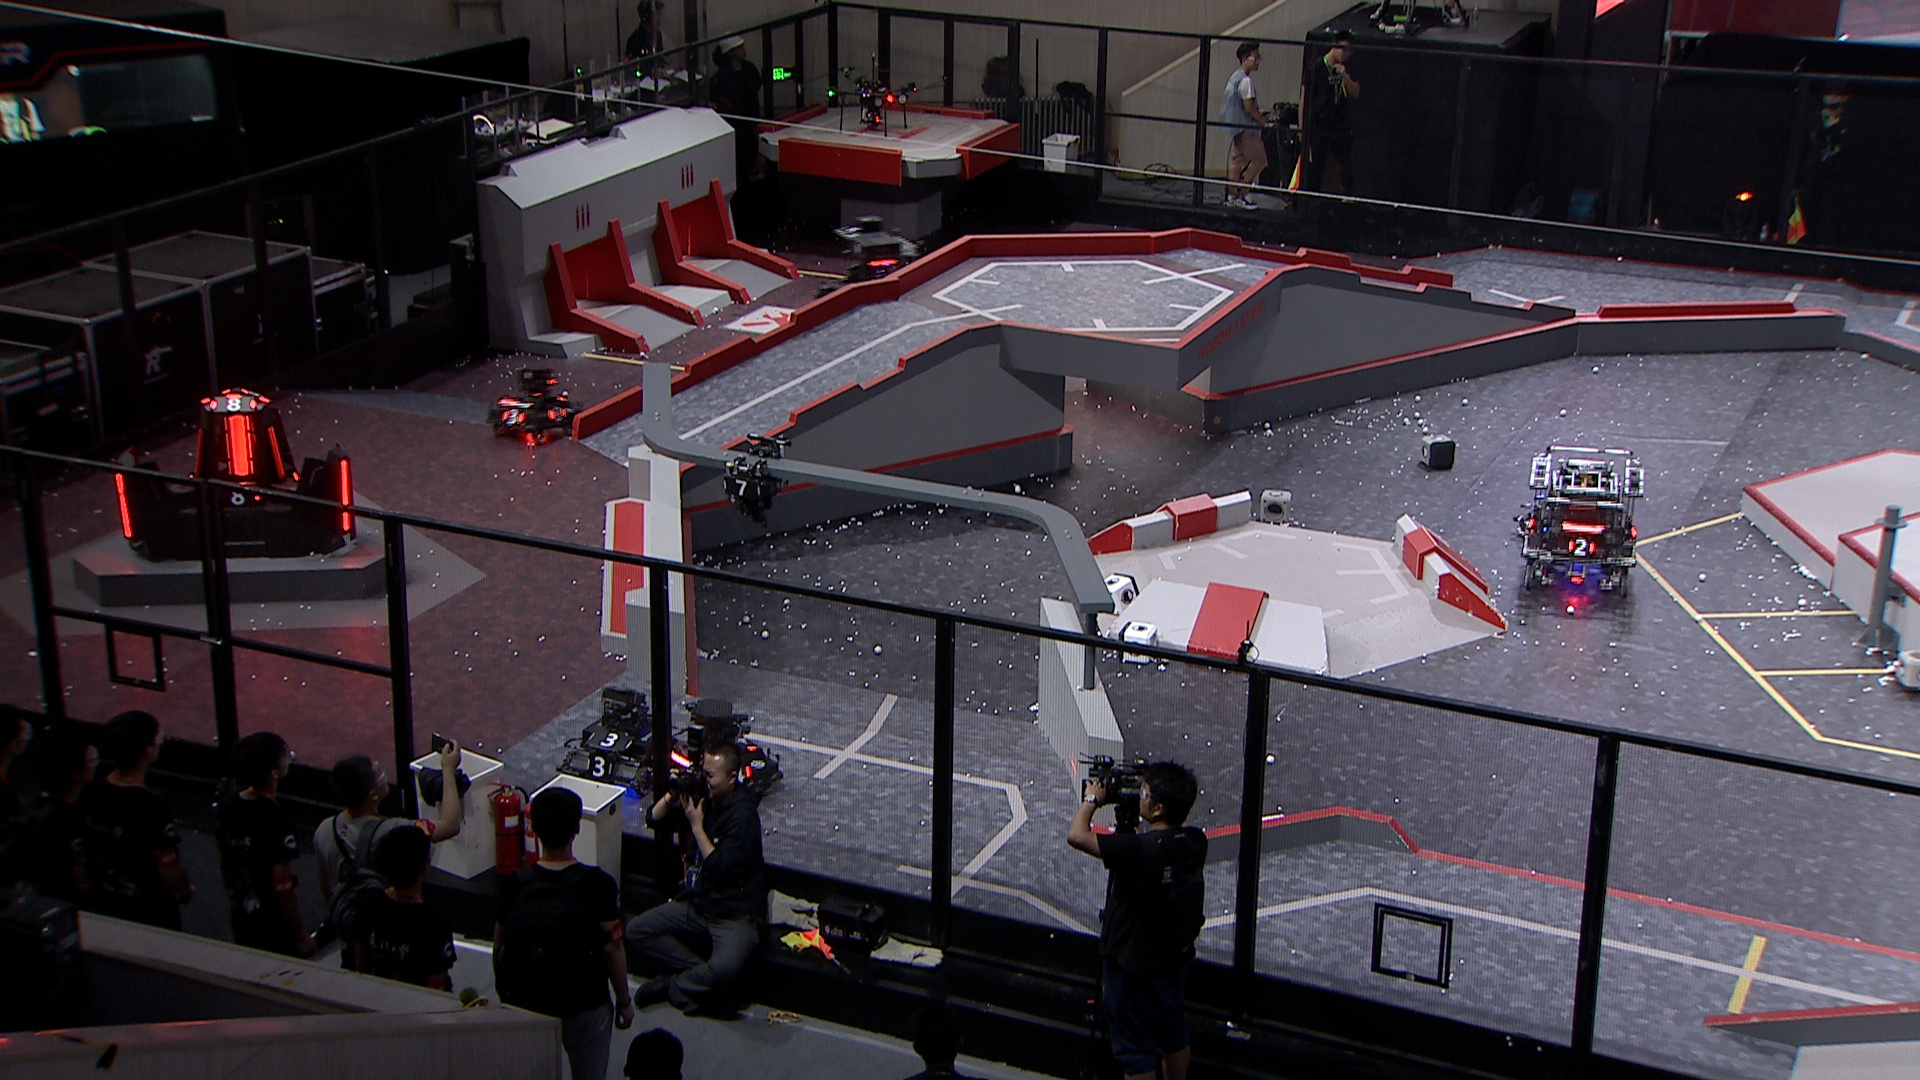armor: (222, 413, 255, 477), (112, 469, 135, 537), (266, 425, 287, 481), (585, 731, 636, 752), (339, 458, 352, 531), (208, 396, 258, 414), (723, 479, 765, 500), (191, 425, 206, 479), (1567, 535, 1598, 559), (583, 756, 615, 779), (218, 489, 262, 504), (498, 409, 526, 427), (545, 404, 567, 425)
base: (109, 390, 359, 564)
car: (1520, 440, 1647, 595), (558, 684, 694, 796), (647, 698, 785, 807), (814, 211, 932, 323), (481, 363, 585, 442)
watcher: (721, 433, 794, 531)
